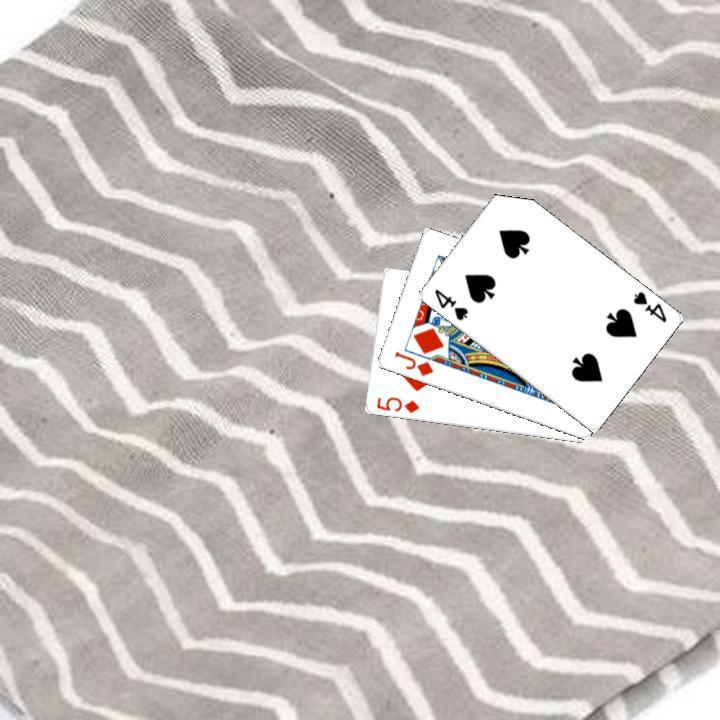4: (430, 285, 470, 323), (628, 287, 668, 324)
5: (372, 392, 421, 416)
J: (390, 347, 435, 378)
